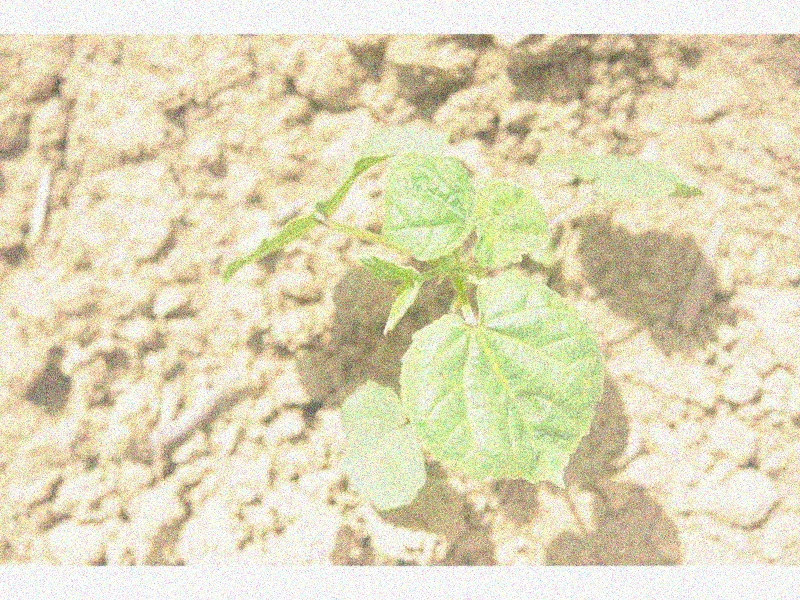velvet: (221, 123, 702, 512)
